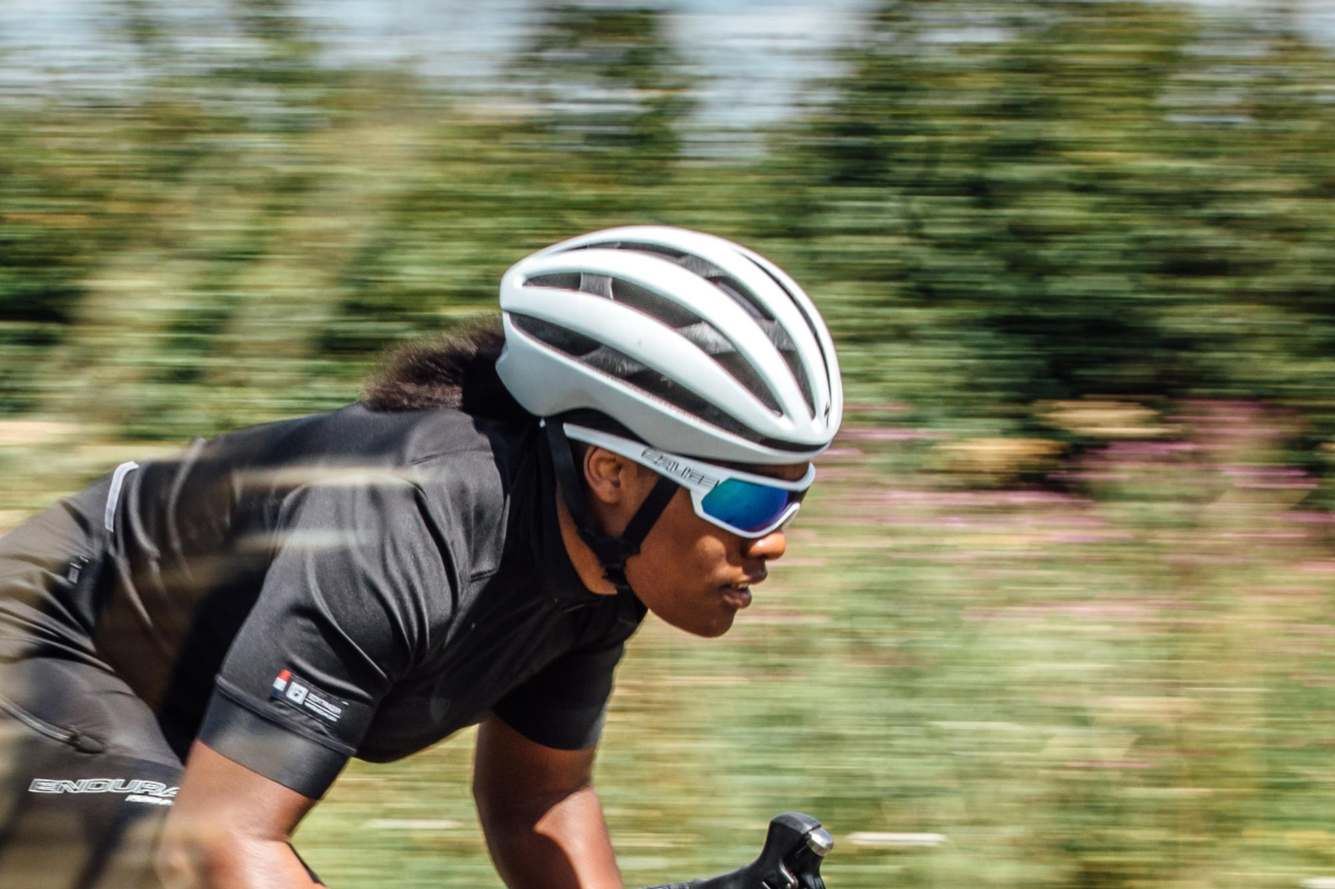helmet: (479, 210, 873, 542)
